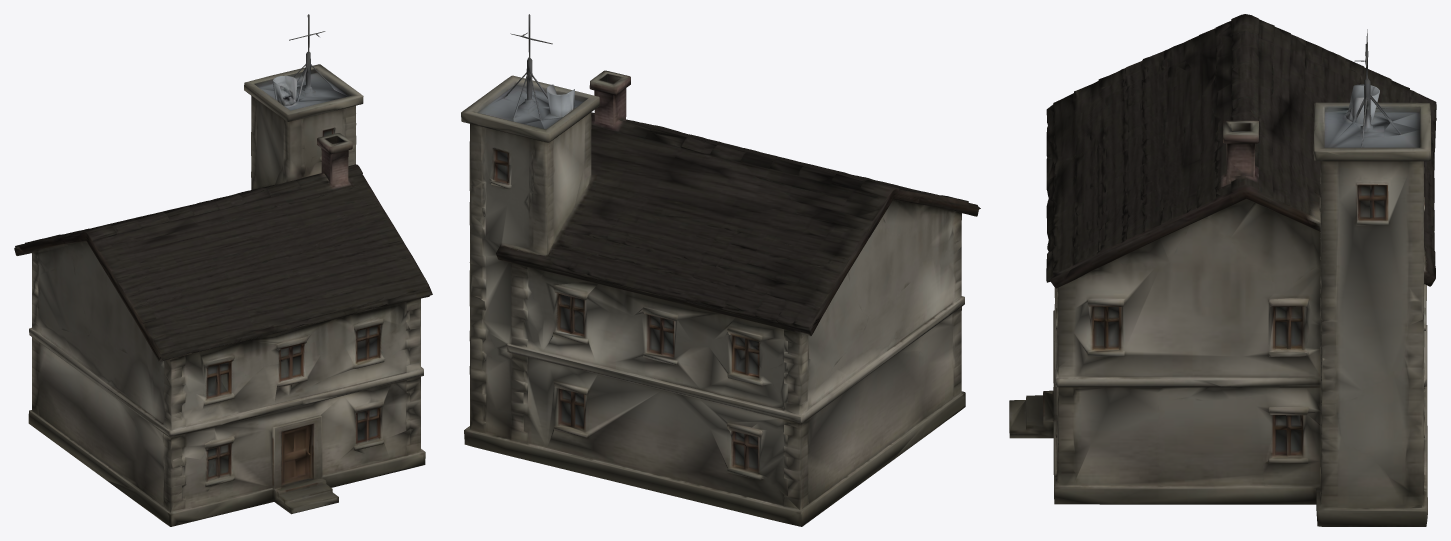
The model's file is CasaDaniel.glb.
3 renders of one model, left to right at view 1: azimuth 30°, elevation 25°; view 2: azimuth 150°, elevation 25°; view 3: azimuth 270°, elevation 25°, orthographic. The views are drawn at different scales.
Visible parts, largest first — view 1: node_0; view 2: node_0; view 3: node_0.
Part boxes in pixels (x1,y1,x2,y2): node_0: (14,14,432,526); node_0: (461,14,980,526); node_0: (1009,14,1436,526).
Size of the model in its own units: 0.6882 by 0.7858 by 0.6377.
Materials: 1 (1 with a texture image).
